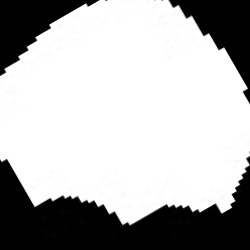spot: (1, 2, 249, 225)
